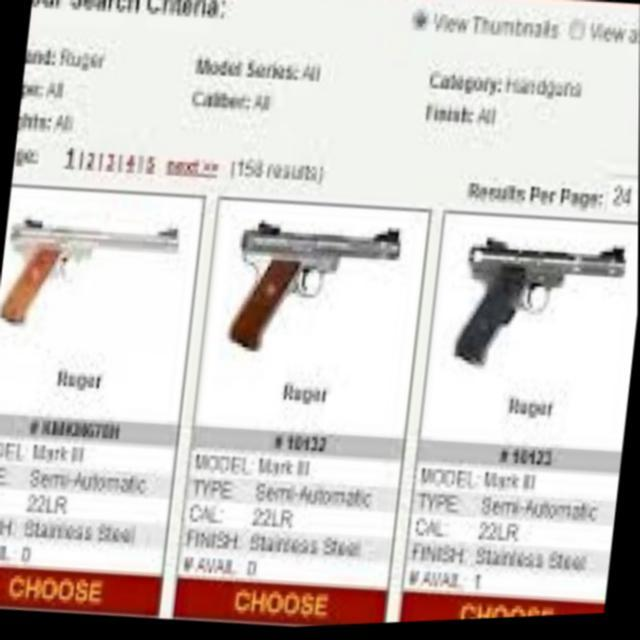weapon: (225, 212, 402, 368), (452, 232, 628, 384), (0, 206, 181, 340)
